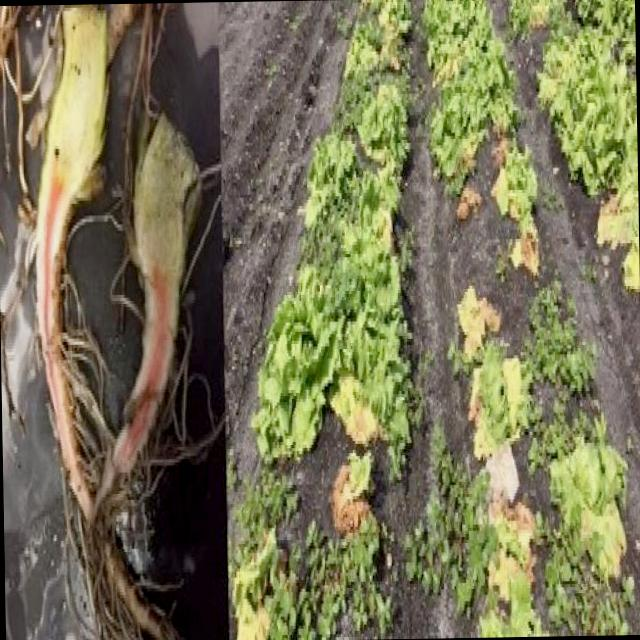Septoria_Blight: (27, 78, 192, 497)
